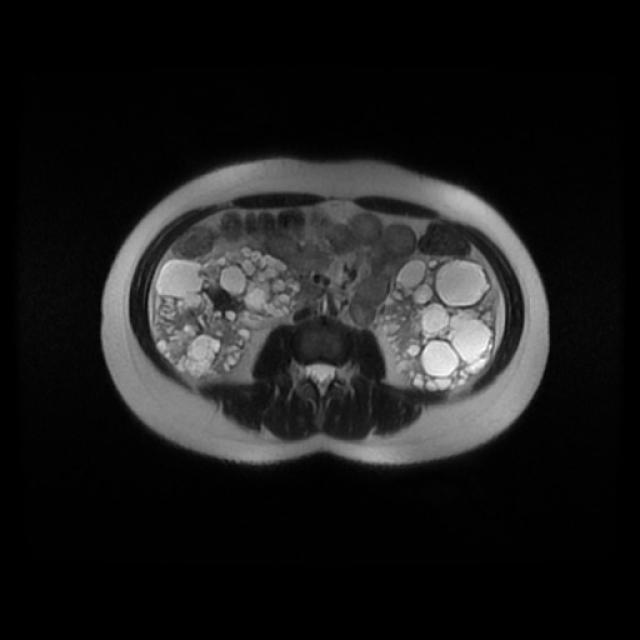sag: (154, 245, 301, 381)
sol: (381, 257, 496, 392)
